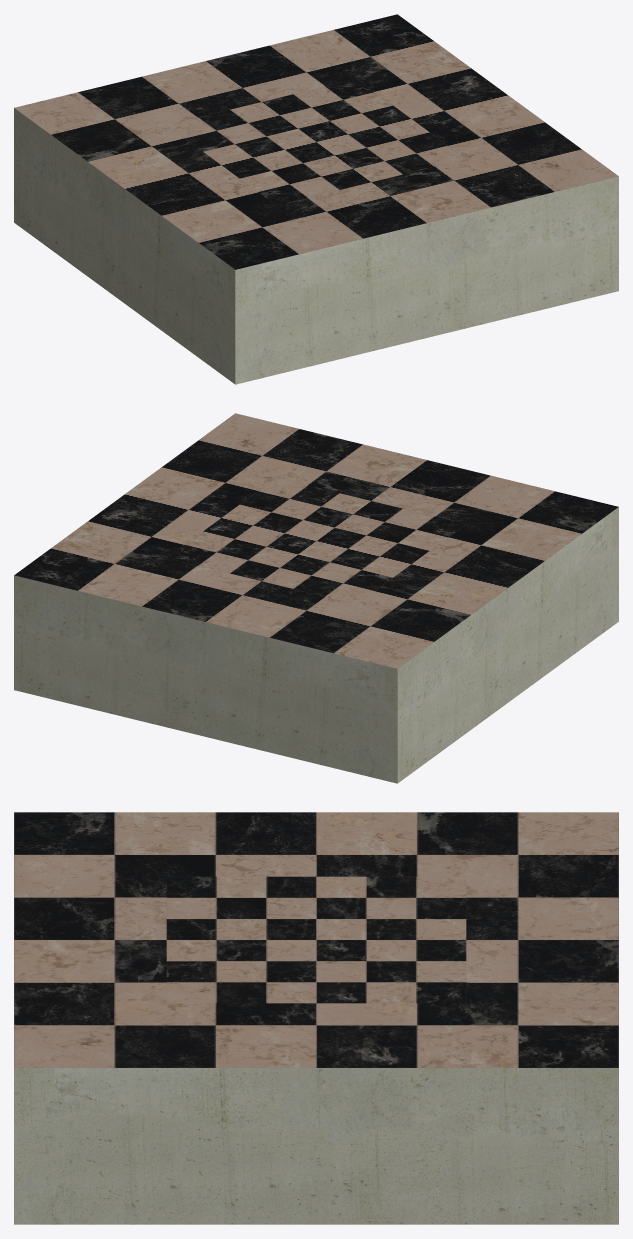
File: hallway round point.fbx
3 renders of one model, top to bottom at view 1: azimuth 30°, elevation 25°; view 2: azimuth 150°, elevation 25°; view 3: azimuth 270°, elevation 25°, orthographic. The views are drawn at different scales.
Parts seen in each view (by area): view 1: Cube; view 2: Cube; view 3: Cube.
Boxes of the visible parts, left/top/right/bottom form: Cube: left=14, top=14, right=618, bottom=384; Cube: left=14, top=413, right=618, bottom=783; Cube: left=14, top=812, right=618, bottom=1224.
Bounding box in the file's own units: 2098 × 2098 × 600.
